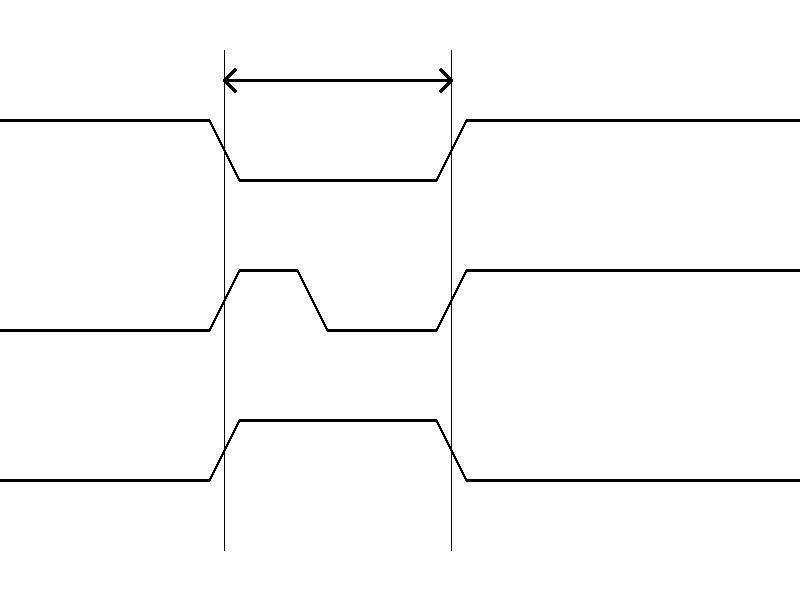double_arrow: (224, 65, 451, 95)
